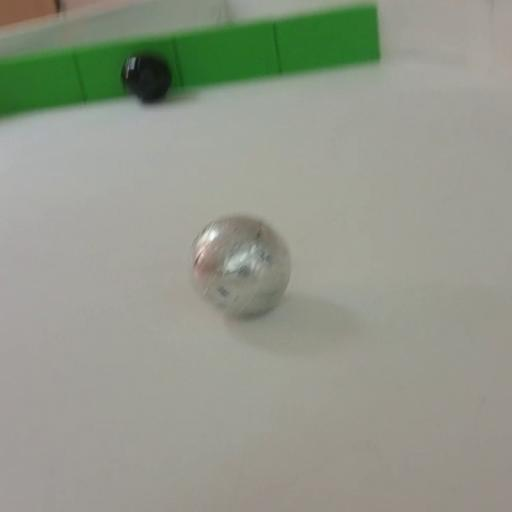alive: (190, 213, 292, 319)
dead: (120, 54, 170, 104)
